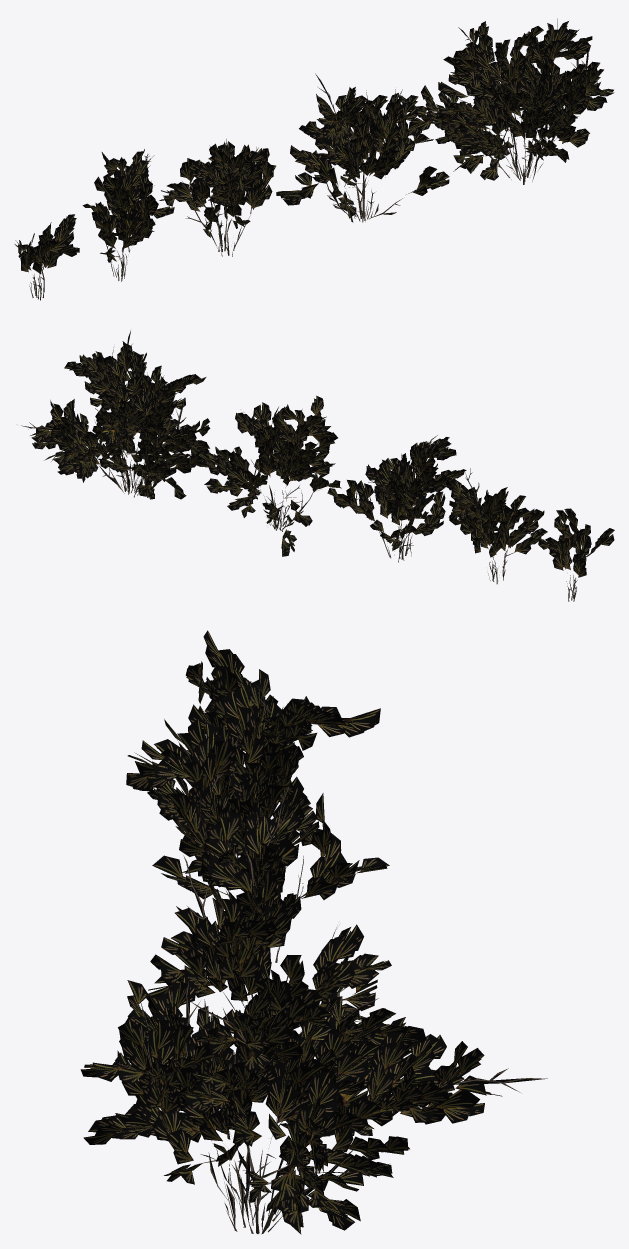
Rendered from dry-bush.glb.
3 renders of one model, top to bottom at view 1: azimuth 30°, elevation 25°; view 2: azimuth 150°, elevation 25°; view 3: azimuth 270°, elevation 25°, orthographic. The views are drawn at different scales.
Parts seen in each view (by area): view 1: wild_rooibos_bush_a, wild_rooibos_bush_b, wild_rooibos_bush_c, wild_rooibos_bush_d, wild_rooibos_bush_e; view 2: wild_rooibos_bush_a, wild_rooibos_bush_b, wild_rooibos_bush_c, wild_rooibos_bush_d, wild_rooibos_bush_e; view 3: wild_rooibos_bush_a, wild_rooibos_bush_b, wild_rooibos_bush_c, wild_rooibos_bush_d, wild_rooibos_bush_e.
Part boxes in pixels (bbox=[...]): wild_rooibos_bush_a: bbox=[398, 18, 614, 184]; wild_rooibos_bush_b: bbox=[276, 73, 449, 222]; wild_rooibos_bush_c: bbox=[159, 139, 275, 256]; wild_rooibos_bush_d: bbox=[82, 149, 174, 281]; wild_rooibos_bush_e: bbox=[14, 214, 79, 300]; wild_rooibos_bush_a: bbox=[21, 330, 217, 499]; wild_rooibos_bush_b: bbox=[200, 395, 341, 556]; wild_rooibos_bush_c: bbox=[327, 435, 466, 562]; wild_rooibos_bush_d: bbox=[446, 468, 547, 584]; wild_rooibos_bush_e: bbox=[538, 508, 614, 601]; wild_rooibos_bush_a: bbox=[80, 962, 547, 1234]; wild_rooibos_bush_b: bbox=[144, 784, 391, 1040]; wild_rooibos_bush_c: bbox=[126, 718, 389, 962]; wild_rooibos_bush_d: bbox=[164, 669, 380, 857]; wild_rooibos_bush_e: bbox=[185, 630, 278, 770].
Size of the model in its own units: 2.27 by 0.533 by 0.8279.
3 materials, 3 textured.
